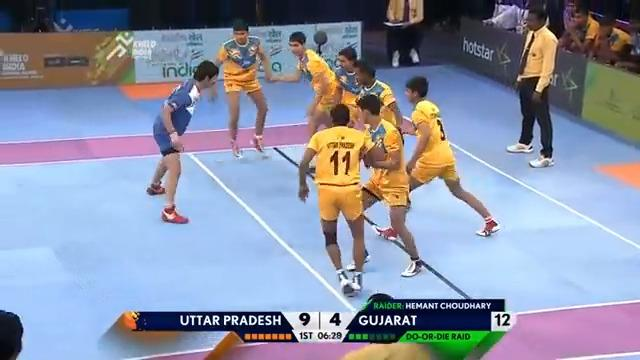Player: (374, 75, 500, 239), (297, 103, 374, 296), (352, 92, 424, 277), (266, 30, 344, 145), (213, 18, 273, 159), (351, 59, 403, 132), (383, 0, 424, 67)
Raider: (145, 59, 219, 224)
referee: (505, 6, 559, 167)
